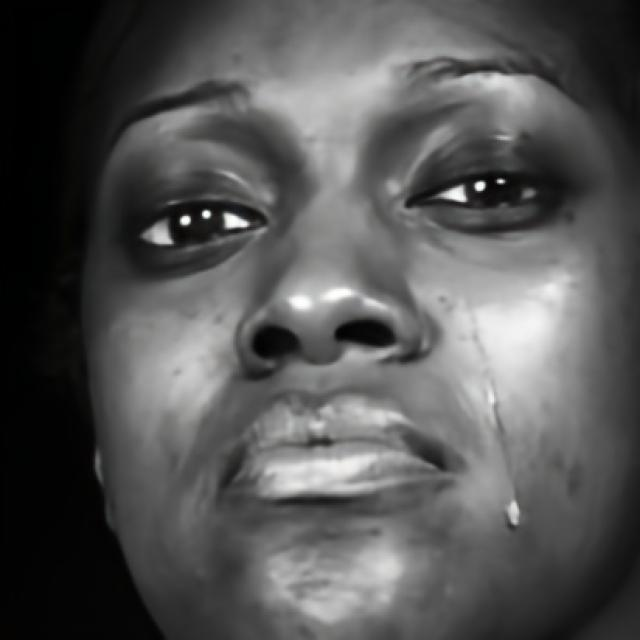sad: (77, 0, 640, 640)
